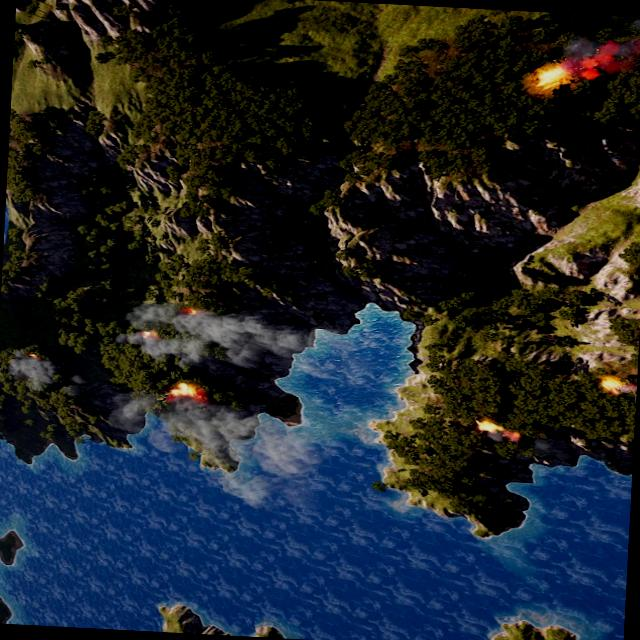fire: (533, 62, 568, 90), (168, 380, 205, 400), (602, 374, 626, 392), (476, 420, 504, 432), (181, 306, 199, 315), (141, 330, 158, 339), (28, 350, 40, 358)
smoke: (104, 388, 330, 508), (115, 302, 322, 376), (563, 12, 640, 79), (491, 428, 556, 462), (9, 352, 60, 388)
